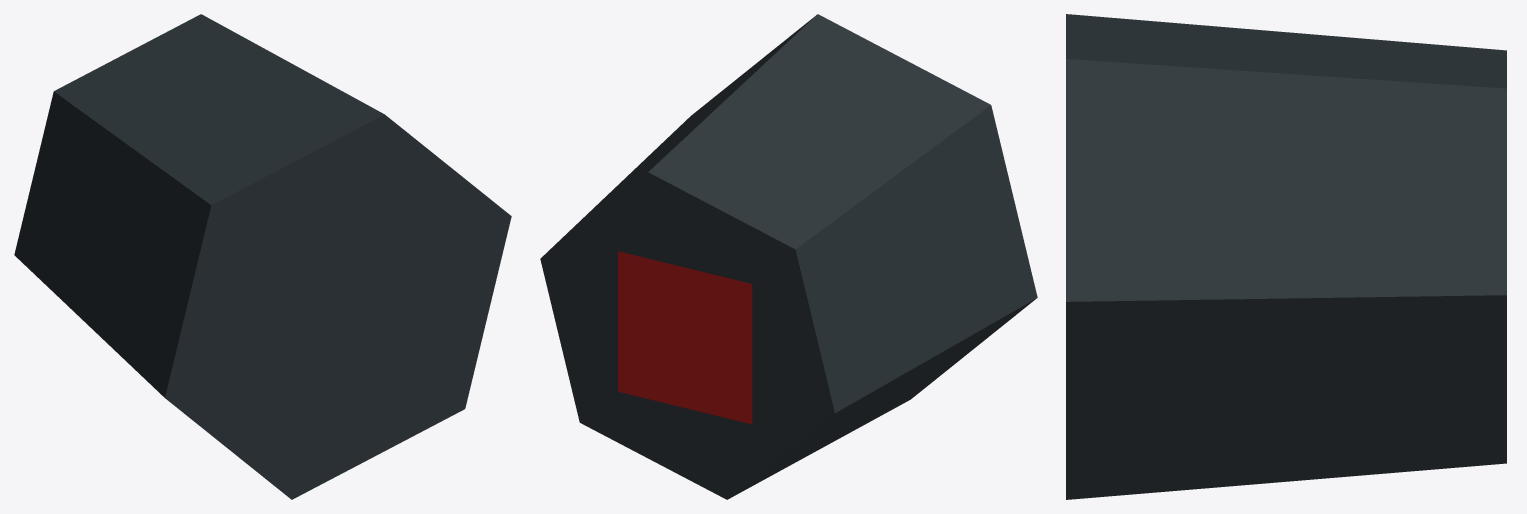
3 views of the same model, side by side, from view 1: azimuth 30°, elevation 25°; view 2: azimuth 150°, elevation 25°; view 3: azimuth 270°, elevation 25° (orthographic). The views are drawn at different scales.
Parts seen in each view (by area): view 1: mount; view 2: mount; view 3: mount.
Part boxes in pixels (<box>): mount: <box>14,14,511,499</box>; mount: <box>540,14,1037,499</box>; mount: <box>1066,14,1506,499</box>.
Bounding box in the file's own units: 2.51 × 2.51 × 2.25.
